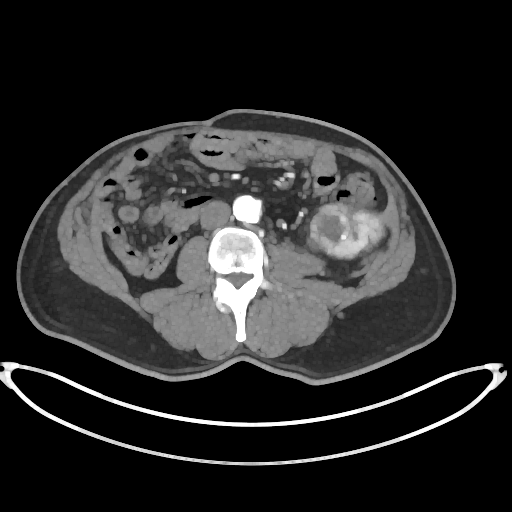Lesion: (311, 208, 353, 246)
